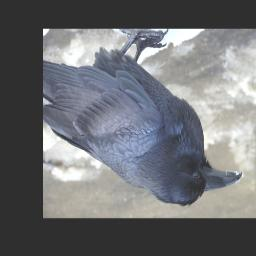Crow: (44, 29, 242, 207)
